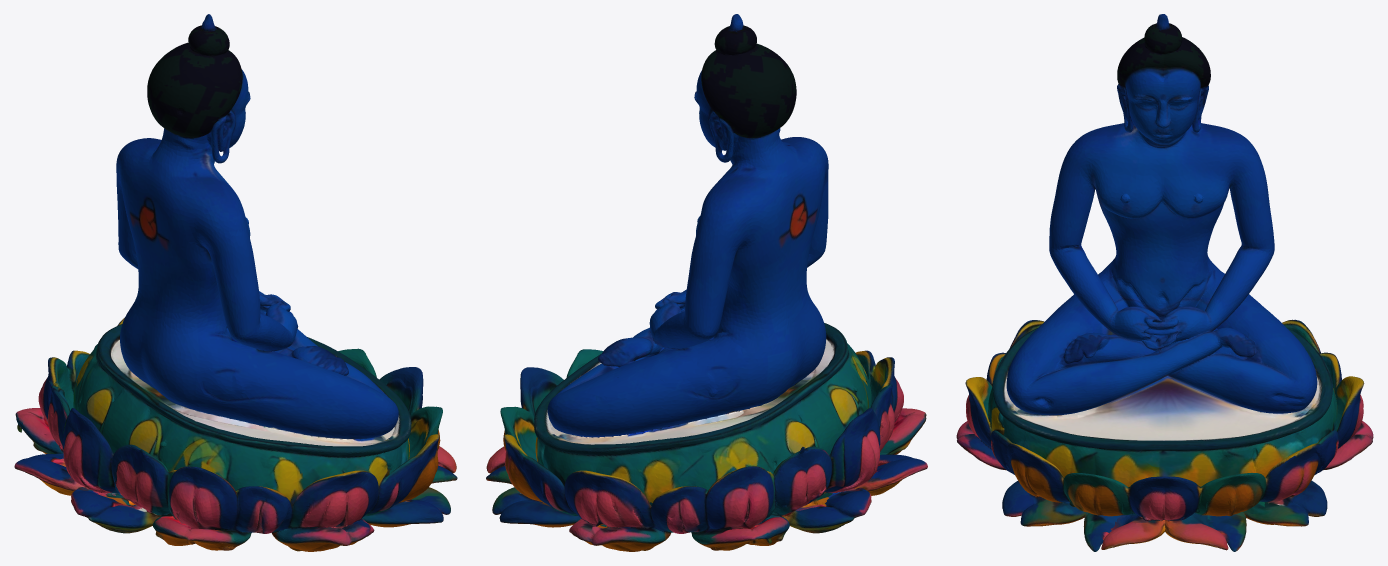
File: modelo56.glb
The picture shows the model from 3 angles, left to right: view 1: azimuth 30°, elevation 25°; view 2: azimuth 150°, elevation 25°; view 3: azimuth 270°, elevation 25°; orthographic projection. The views are drawn at different scales.
Parts seen in each view (by area): view 1: tripo_node_ac95f7bc-fa3b-49fd-97d8-53dc78ab4ce4; view 2: tripo_node_ac95f7bc-fa3b-49fd-97d8-53dc78ab4ce4; view 3: tripo_node_ac95f7bc-fa3b-49fd-97d8-53dc78ab4ce4.
Part boxes in pixels (x1,y1,x2,y2): tripo_node_ac95f7bc-fa3b-49fd-97d8-53dc78ab4ce4: [14, 14, 457, 551]; tripo_node_ac95f7bc-fa3b-49fd-97d8-53dc78ab4ce4: [486, 14, 927, 551]; tripo_node_ac95f7bc-fa3b-49fd-97d8-53dc78ab4ce4: [956, 14, 1373, 551].
Bounding box in the file's own units: 0.8104 × 0.9998 × 0.846.
Materials: 1 (1 with a texture image).
